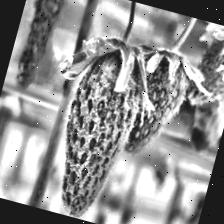Powdery Mildew Fruit: (42, 35, 163, 224), (114, 43, 209, 168)
